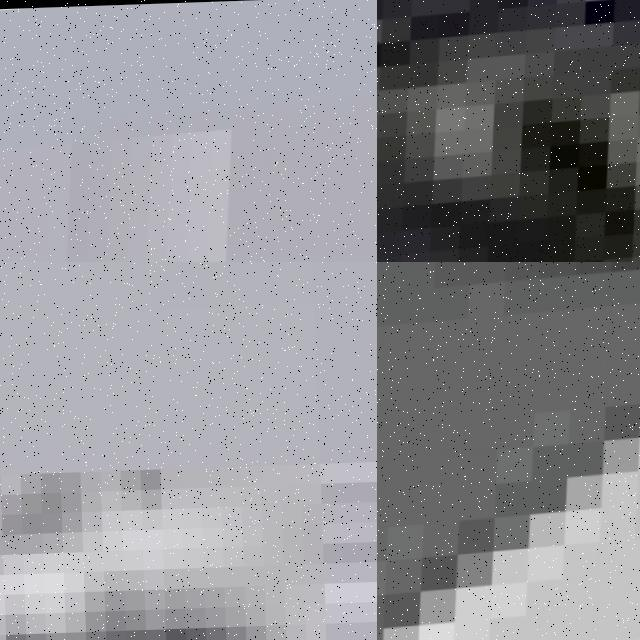0: (0, 0, 377, 262)
drone: (377, 262, 640, 640), (377, 0, 640, 262)
